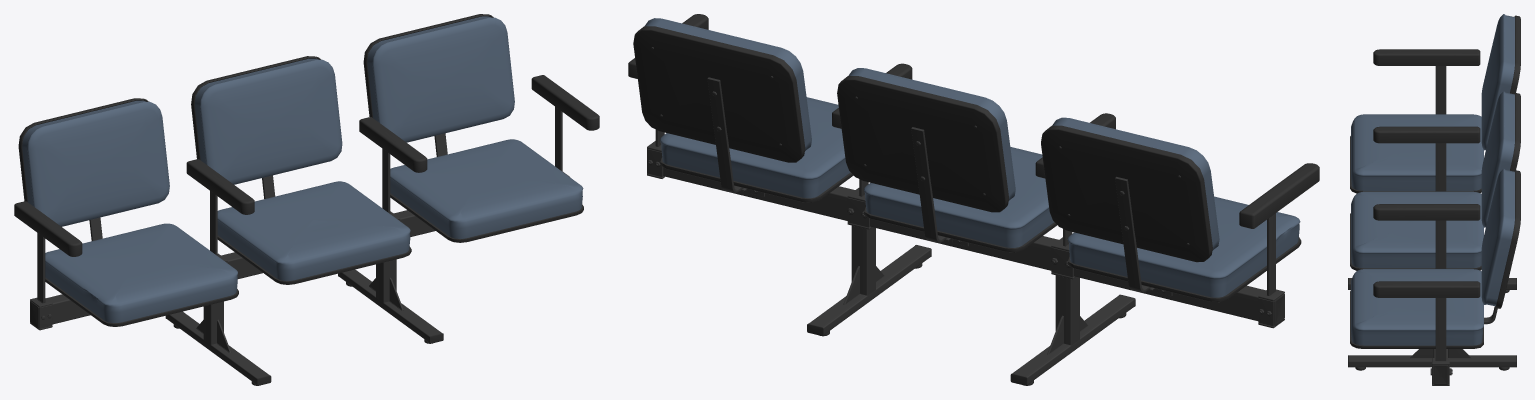
File: Kit_TandemBeam3.fbx
3 renders of one model, left to right at view 1: azimuth 30°, elevation 25°; view 2: azimuth 150°, elevation 25°; view 3: azimuth 270°, elevation 25°, orthographic. The views are drawn at different scales.
Visible parts, largest first — view 1: Kit_TandemBeam3_LOD0; view 2: Kit_TandemBeam3_LOD0; view 3: Kit_TandemBeam3_LOD0.
Boxes of the visible parts, x1=… form: Kit_TandemBeam3_LOD0: x1=14, y1=14, x2=599, y2=385; Kit_TandemBeam3_LOD0: x1=628, y1=14, x2=1319, y2=385; Kit_TandemBeam3_LOD0: x1=1348, y1=14, x2=1520, y2=385.
Size of what is drawn, in the model's own units: 2 by 0.84 by 0.6144.
